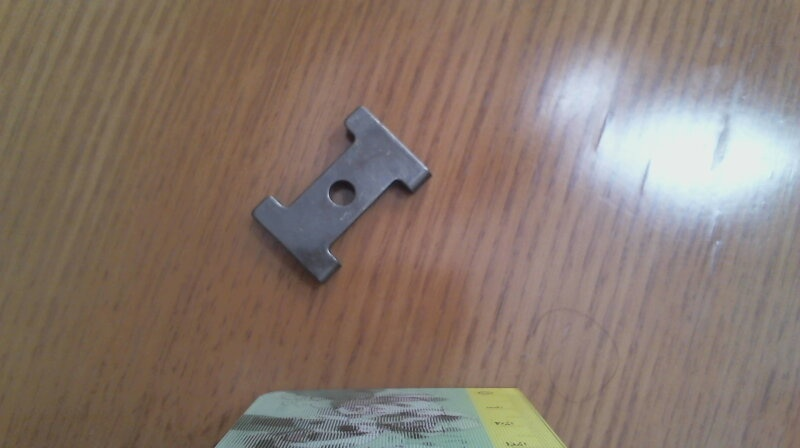O002: (245, 99, 437, 286)
